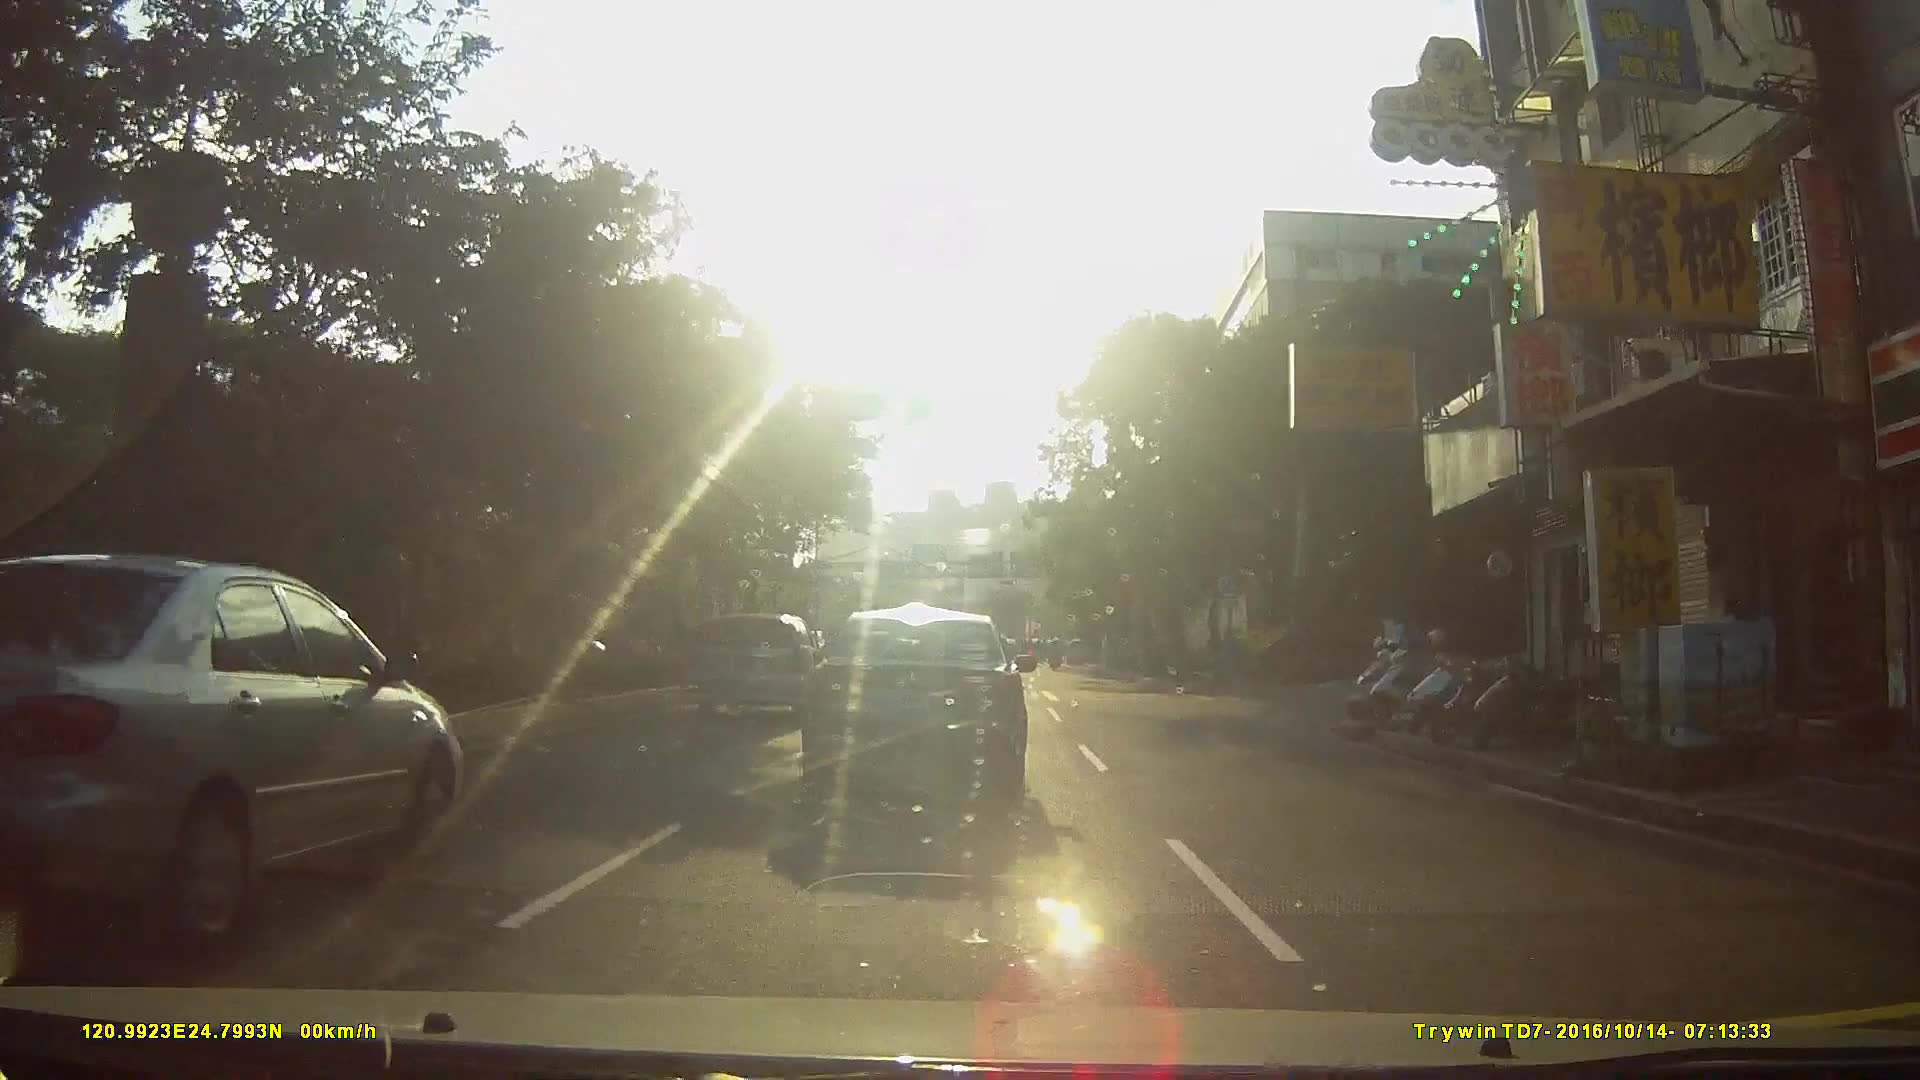pedestrian: (1713, 587, 1780, 742)
vehicle: (0, 552, 488, 937), (810, 604, 1052, 815), (699, 612, 826, 718), (1064, 636, 1098, 667)
